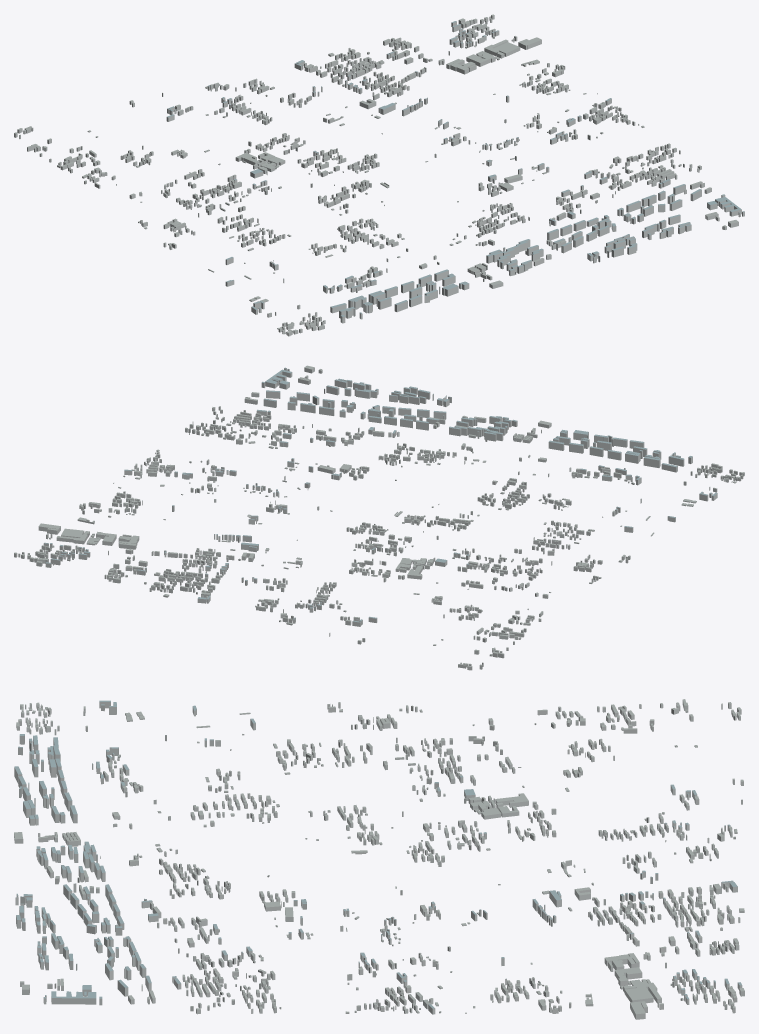
File: far.glb
3 renders of one model, top to bottom at view 1: azimuth 30°, elevation 25°; view 2: azimuth 150°, elevation 25°; view 3: azimuth 270°, elevation 25°, orthographic. The views are drawn at different scales.
Size of the model in its own units: 2155 by 34.44 by 2111.
